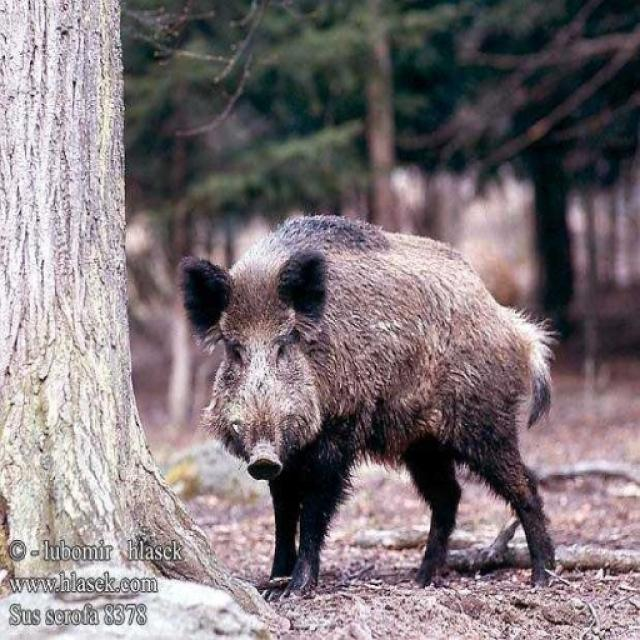pig: (151, 172, 640, 640)
